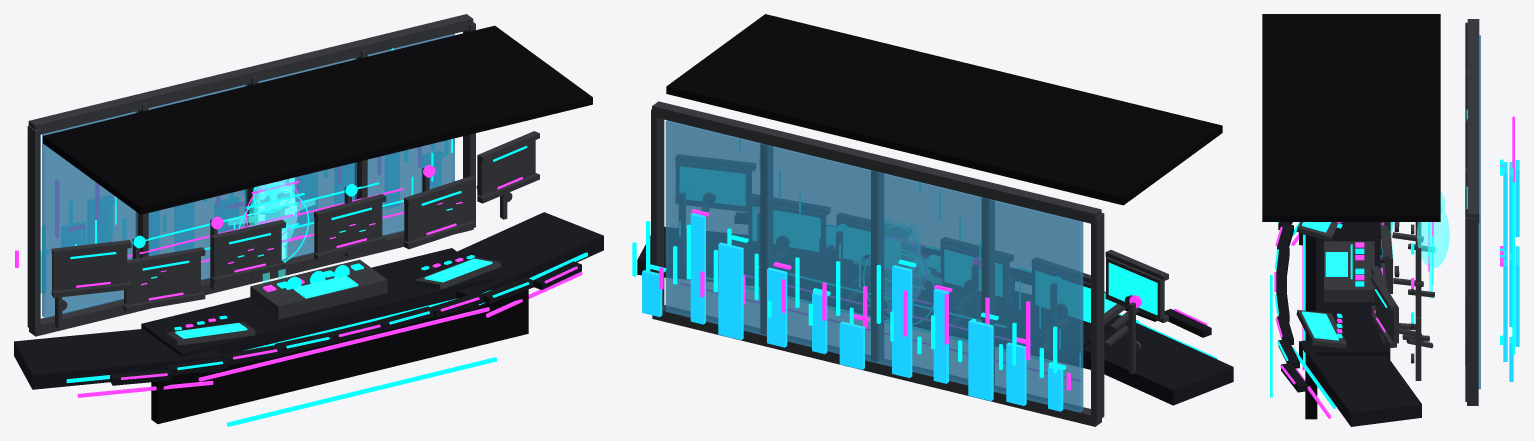
The model's file is boardroom_composite_iter02.glb.
3 renders of one model, left to right at view 1: azimuth 30°, elevation 25°; view 2: azimuth 150°, elevation 25°; view 3: azimuth 270°, elevation 25°, orthographic. The views are drawn at different scales.
Visible parts, largest first — view 1: ceiling_black_tech_frame, panoramic_curved_window_glass_center, front_drop_black_recess, c_wrap_center_glossy_desk_slab, panoramic_window_top_frame, c_wrap_left_wing_glossy_desk_slab, c_wrap_right_wing_glossy_desk_slab, raised_central_control_console_body, panoramic_window_bottom_frame, window_vertical_frame_-3.08, desk_left_monitor_rugged_graphite_bezel_frame, upper_left_articulated_monitor_rugged_graphite_bezel_frame (+39 smaller); view 2: panoramic_curved_window_glass_center, ceiling_black_tech_frame, panoramic_window_top_frame, c_wrap_left_wing_glossy_desk_slab, c_wrap_center_glossy_desk_slab, panoramic_window_bottom_frame, window_vertical_frame_-3.08, distant_city_tower_08, window_vertical_frame_+0.00, window_vertical_frame_+3.08, distant_city_tower_04, window_vertical_frame_+1.55 (+24 smaller); view 3: ceiling_black_tech_frame, c_wrap_right_wing_glossy_desk_slab, c_wrap_center_glossy_desk_slab, panoramic_window_top_frame, window_vertical_frame_+3.08, raised_central_control_console_body, front_drop_black_recess, hologram_torso_feminine_presence_shell, panoramic_curved_window_glass_center, upper_right_articulated_monitor_rugged_graphite_bezel_frame, right_sloped_touch_tablet_screen, right_sloped_touch_tablet_body (+21 smaller).
Part boxes in pixels (x1,y1,x2,y2): ceiling_black_tech_frame: [43, 25, 592, 214]; panoramic_curved_window_glass_center: [42, 33, 454, 318]; front_drop_black_recess: [151, 289, 528, 423]; c_wrap_center_glossy_desk_slab: [141, 248, 492, 357]; panoramic_window_top_frame: [28, 14, 473, 134]; c_wrap_left_wing_glossy_desk_slab: [14, 329, 223, 389]; c_wrap_right_wing_glossy_desk_slab: [456, 212, 603, 310]; raised_central_control_console_body: [250, 259, 387, 319]; panoramic_window_bottom_frame: [29, 228, 473, 336]; window_vertical_frame_-3.08: [27, 125, 40, 332]; desk_left_monitor_rugged_graphite_bezel_frame: [124, 256, 200, 304]; upper_left_articulated_monitor_rugged_graphite_bezel_frame: [52, 248, 127, 290]; panoramic_curved_window_glass_center: [665, 120, 1083, 412]; ceiling_black_tech_frame: [666, 14, 1222, 205]; panoramic_window_top_frame: [652, 101, 1101, 224]; c_wrap_left_wing_glossy_desk_slab: [1081, 314, 1233, 405]; c_wrap_center_glossy_desk_slab: [776, 253, 1120, 362]; panoramic_window_bottom_frame: [652, 304, 1101, 426]; window_vertical_frame_-3.08: [1091, 213, 1104, 421]; distant_city_tower_08: [718, 242, 743, 339]; window_vertical_frame_+0.00: [871, 170, 883, 368]; window_vertical_frame_+3.08: [651, 109, 664, 304]; distant_city_tower_04: [892, 265, 912, 377]; window_vertical_frame_+1.55: [760, 143, 772, 340]; ceiling_black_tech_frame: [1262, 14, 1440, 221]; c_wrap_right_wing_glossy_desk_slab: [1299, 340, 1421, 426]; c_wrap_center_glossy_desk_slab: [1316, 222, 1390, 359]; panoramic_window_top_frame: [1467, 19, 1479, 222]; window_vertical_frame_+3.08: [1465, 216, 1478, 401]; raised_central_control_console_body: [1324, 241, 1374, 301]; front_drop_black_recess: [1305, 241, 1317, 419]; hologram_torso_feminine_presence_shell: [1417, 205, 1449, 268]; panoramic_curved_window_glass_center: [1478, 35, 1480, 389]; upper_right_articulated_monitor_rugged_graphite_bezel_frame: [1375, 280, 1398, 343]; right_sloped_touch_tablet_screen: [1302, 311, 1338, 340]; right_sloped_touch_tablet_body: [1296, 310, 1346, 348].
Bounding box in the file's own units: 8.09 × 3.31 × 3.46.
